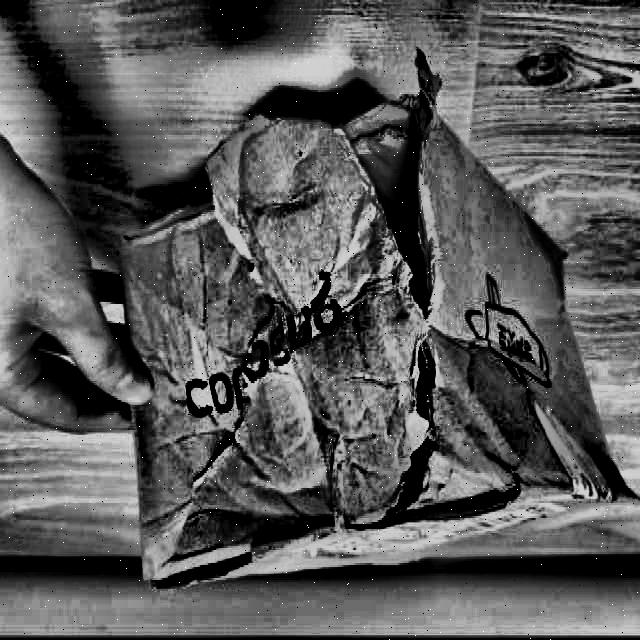box: (99, 45, 639, 600)
hole: (295, 68, 450, 326), (369, 353, 515, 526)
